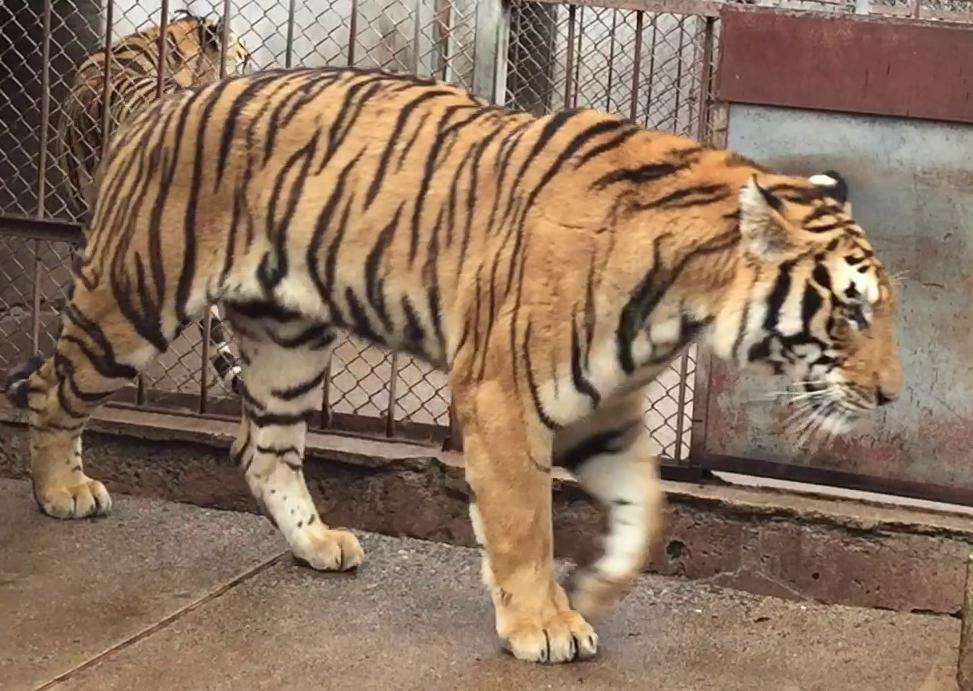tiger: (0, 70, 893, 665)
